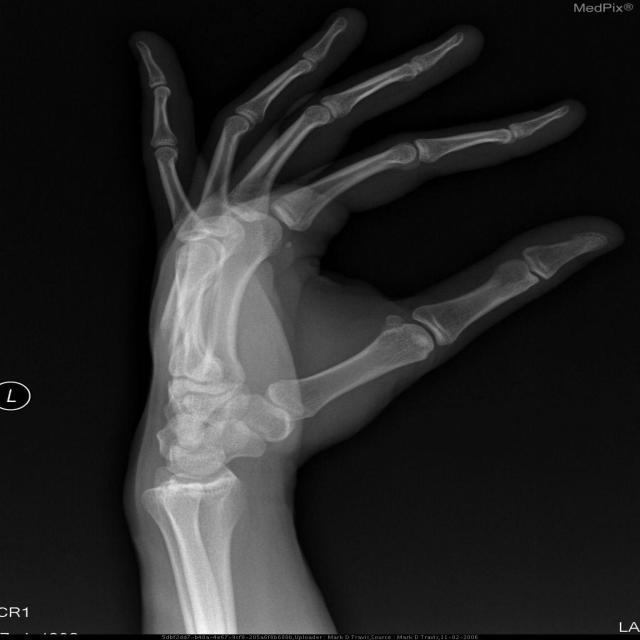fracture: (167, 206, 232, 282)
